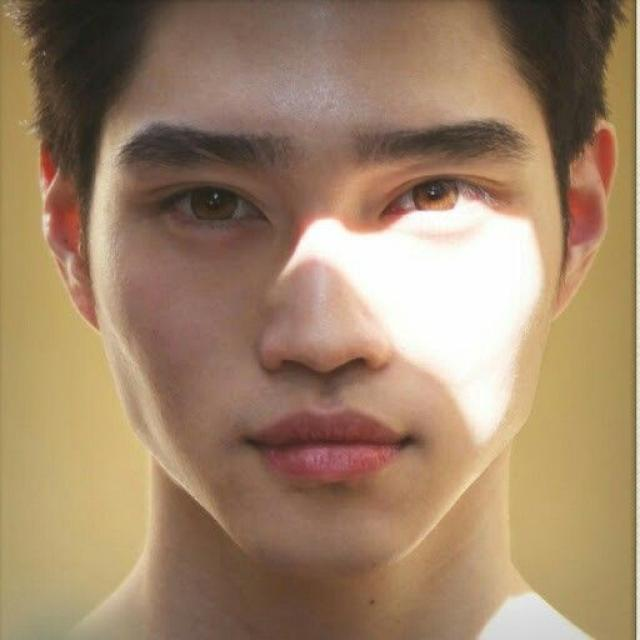earlobe: (70, 271, 100, 330), (556, 256, 585, 313)
eye: (384, 175, 493, 215), (160, 186, 268, 225)
nose: (257, 353, 391, 402)
wholeear: (37, 116, 99, 330), (558, 120, 618, 313)
